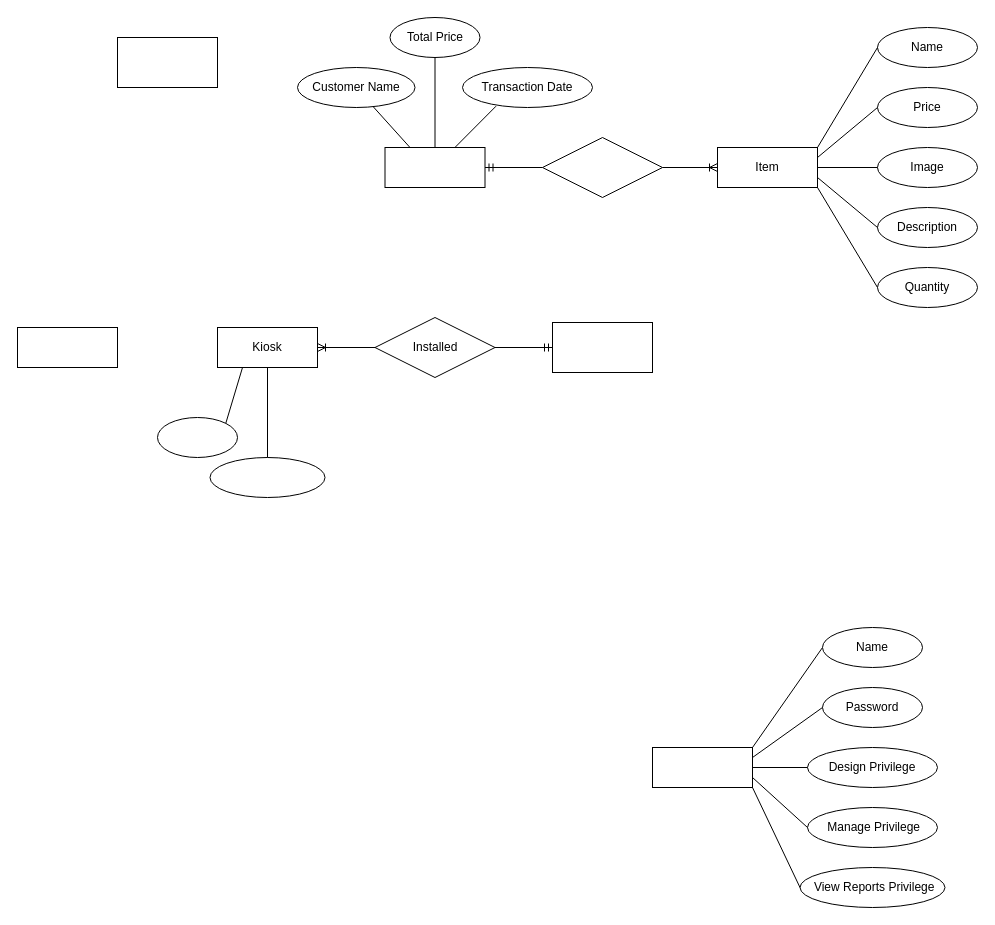
Image size: 995x925. Some labels were removed from this diagram. The shapes that lost their labels are listed below. From the top down, each one's centre as x and y in pixels, then its label:
point (167, 62): "Manage" Application
point (434, 167): Order
point (602, 167): Has
point (67, 347): Customer
point (602, 347): "Order" Application
point (197, 437): Android
point (267, 477): Tablet/Mobile
point (702, 767): Employee
